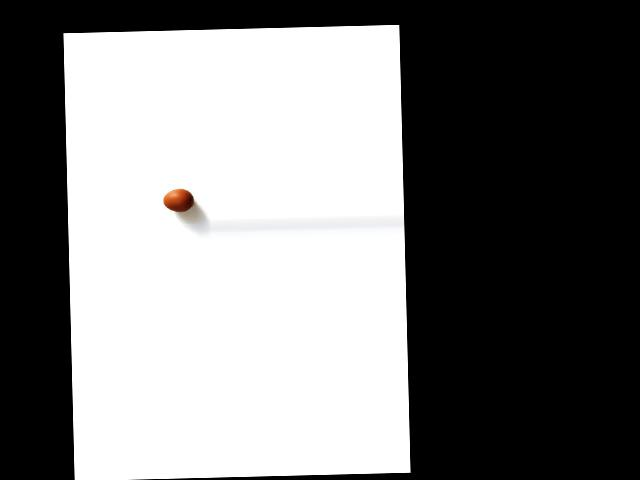egg: (163, 188, 194, 211)
